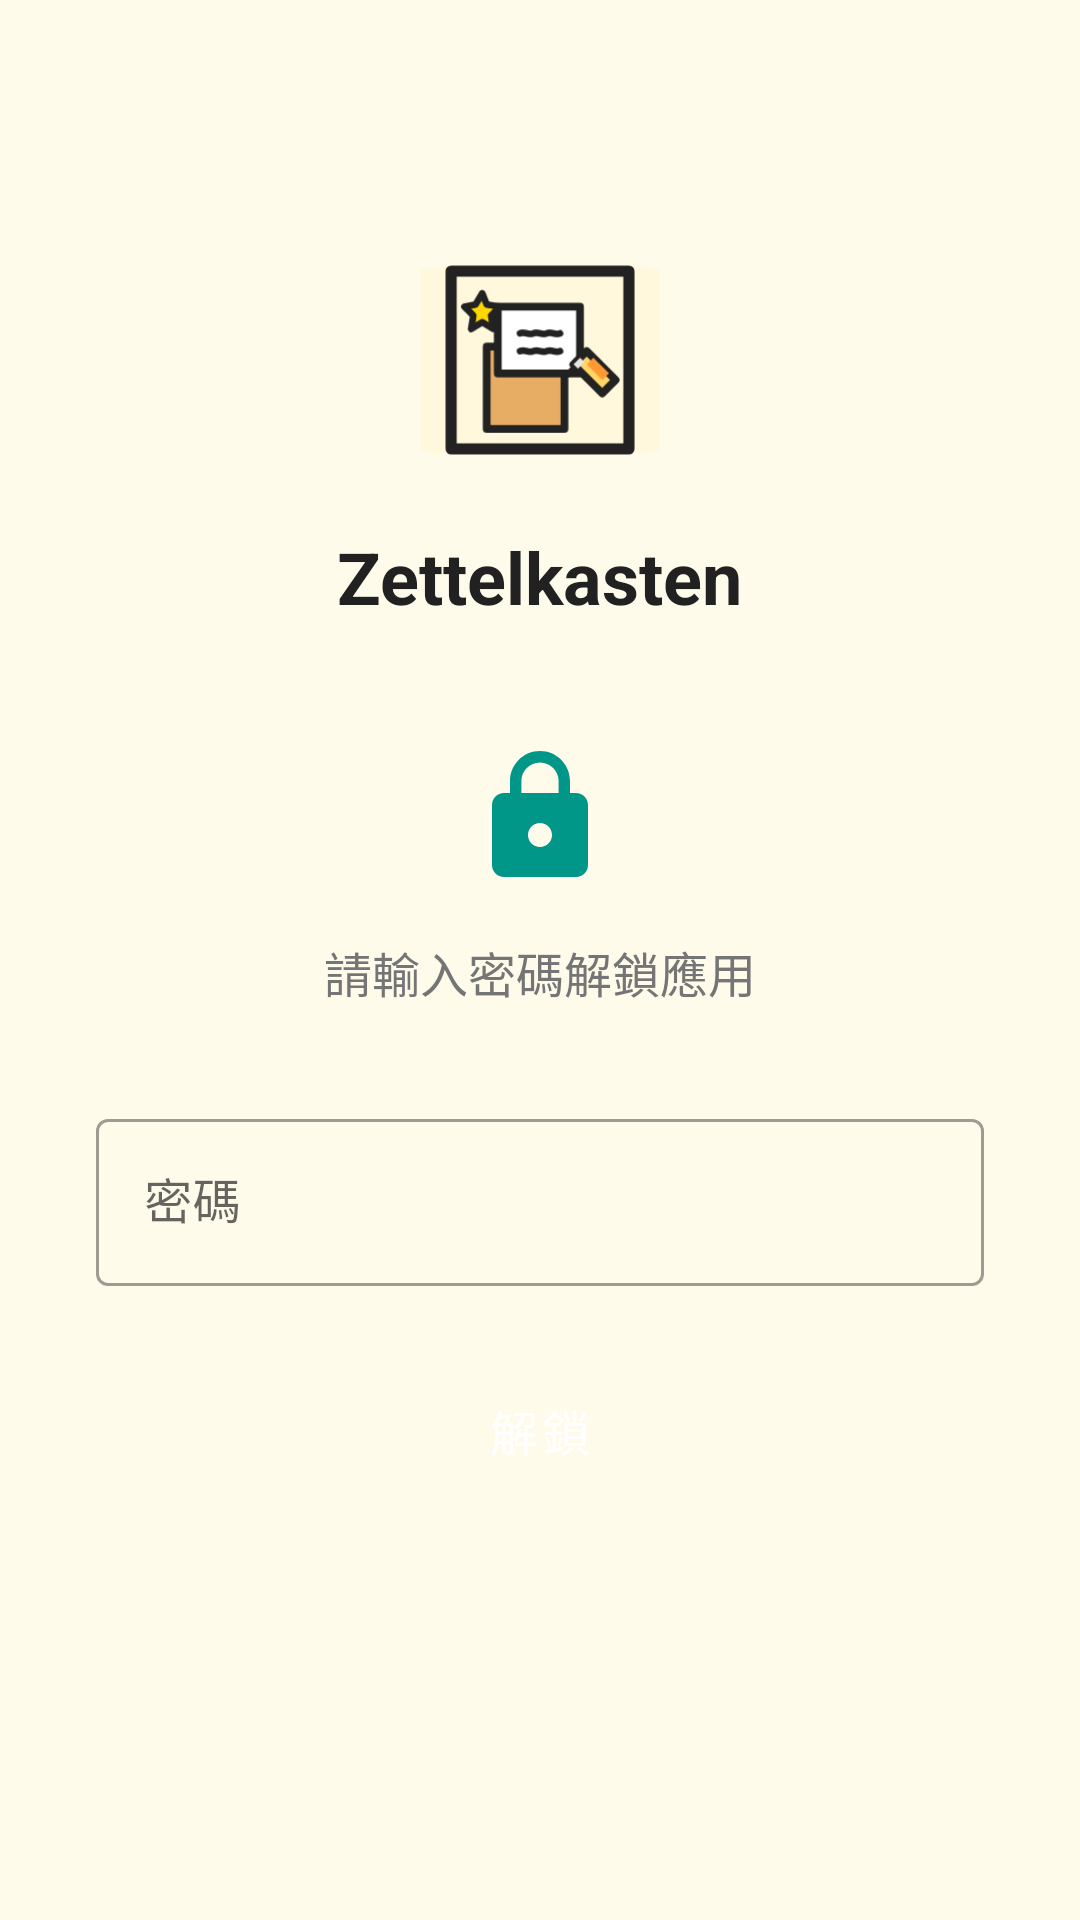

Icons on this 1080 × 1920 Android screen, each with the point to tap as (x=x, y=y):
lock: (x=540, y=814)
